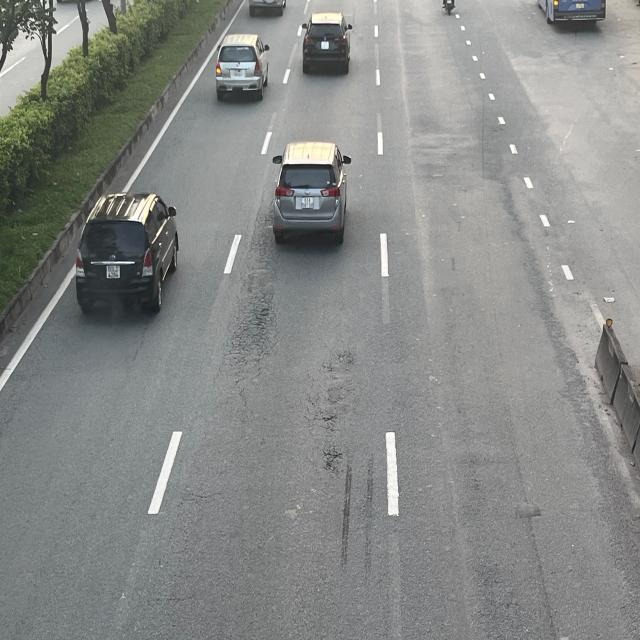car: (76, 189, 182, 312), (272, 143, 354, 247), (213, 34, 269, 102), (302, 10, 355, 72)
